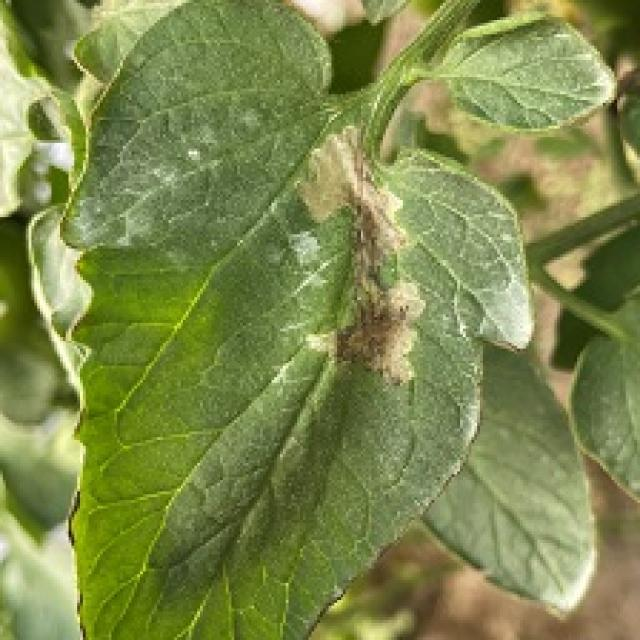Tuta absoluta: (287, 122, 440, 393)
